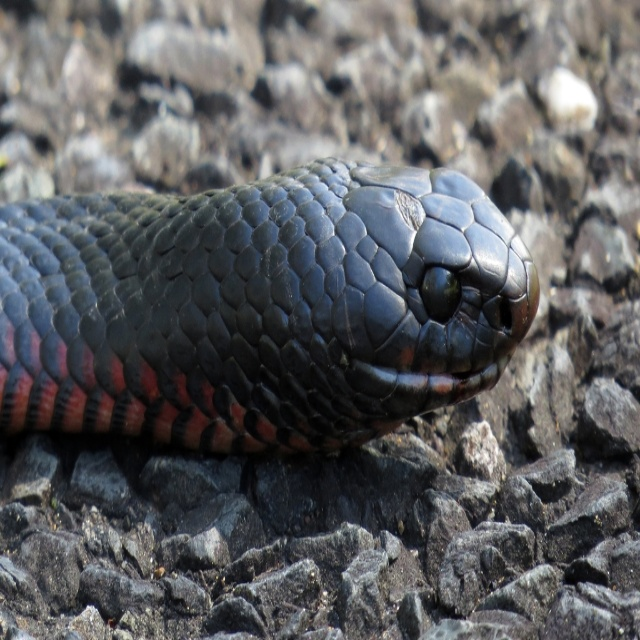Snake: (0, 156, 540, 458)
